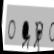correct: (18, 18, 33, 51)
not correct: (29, 16, 46, 52)
